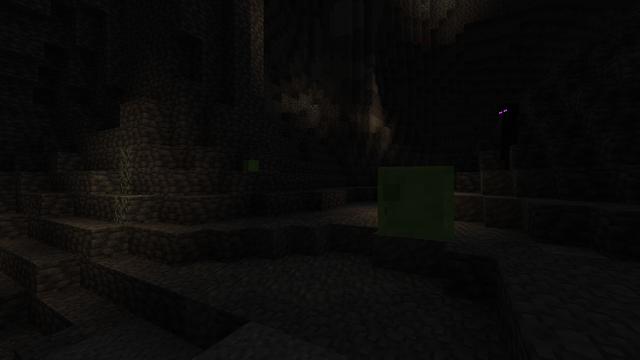endermens: (499, 99, 518, 154)
slimes: (370, 162, 451, 241), (242, 159, 258, 171)
